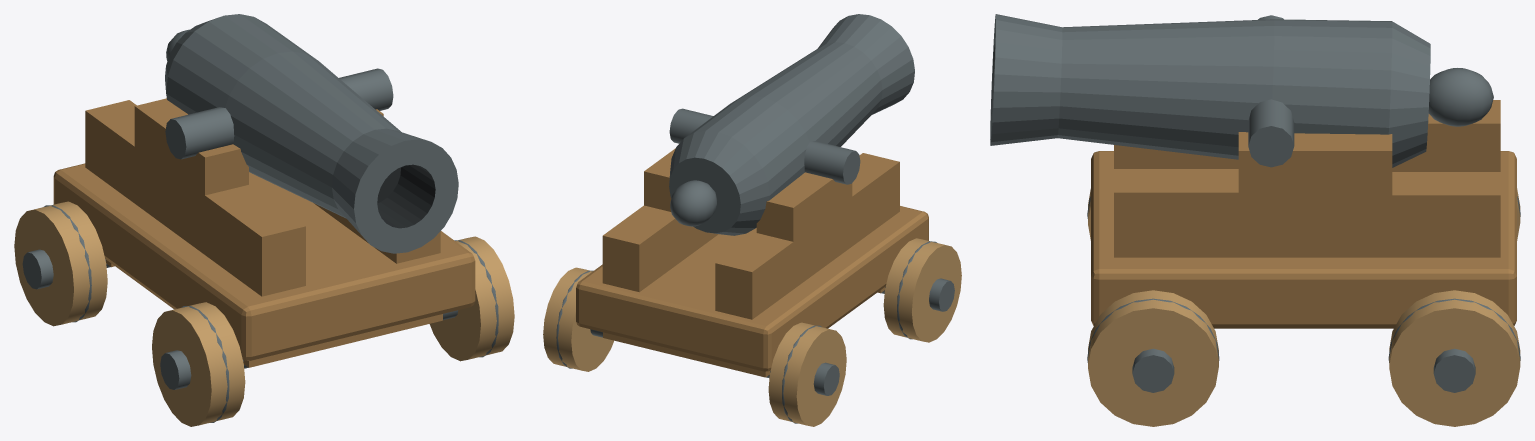
The model's file is cannon_naval.glb.
The picture shows the model from 3 angles, left to right: view 1: azimuth 30°, elevation 25°; view 2: azimuth 150°, elevation 25°; view 3: azimuth 270°, elevation 25°; orthographic projection. The views are drawn at different scales.
Visible parts, largest first — view 1: Naval cannon short hollow-looking barrel, Naval cannon low carriage bed, Naval cannon stepped carriage cheek, Naval cannon small solid wheel.002, Naval cannon small solid wheel, Naval cannon small solid wheel.001, Naval cannon barrel trunnions, Naval cannon axle mounting block, Naval cannon wheel hub, Naval cannon wheel hub.002, Naval cannon stepped carriage cheek.001; view 2: Naval cannon short hollow-looking barrel, Naval cannon low carriage bed, Naval cannon stepped carriage cheek, Naval cannon stepped carriage cheek.001, Naval cannon small solid wheel.002, Naval cannon small solid wheel, Naval cannon small solid wheel.003, Naval cannon barrel trunnions, Naval cannon rear rounded knob, Naval cannon axle mounting block.001, Naval cannon wheel hub, Naval cannon wheel hub.002; view 3: Naval cannon short hollow-looking barrel, Naval cannon stepped carriage cheek.001, Naval cannon low carriage bed, Naval cannon small solid wheel.003, Naval cannon small solid wheel.001, Naval cannon stepped carriage cheek, Naval cannon rear rounded knob, Naval cannon barrel trunnions, Naval cannon wheel hub.001, Naval cannon wheel hub.003.
Part boxes in pixels (box(x1,y1,x2,y2)): Naval cannon short hollow-looking barrel: box(165, 14, 458, 253); Naval cannon low carriage bed: box(53, 163, 475, 360); Naval cannon stepped carriage cheek: box(85, 98, 305, 296); Naval cannon small solid wheel.002: box(14, 201, 107, 326); Naval cannon small solid wheel: box(152, 302, 245, 426); Naval cannon small solid wheel.001: box(429, 236, 514, 361); Naval cannon barrel trunnions: box(165, 68, 393, 159); Naval cannon axle mounting block: box(243, 314, 442, 367); Naval cannon wheel hub: box(160, 350, 191, 389); Naval cannon wheel hub.002: box(22, 249, 53, 289); Naval cannon stepped carriage cheek.001: box(314, 109, 440, 263); Naval cannon short hollow-looking barrel: box(669, 14, 914, 235); Naval cannon low carriage bed: box(576, 206, 928, 371); Naval cannon stepped carriage cheek: box(715, 153, 899, 319); Naval cannon stepped carriage cheek.001: box(602, 148, 718, 292); Naval cannon small solid wheel.002: box(768, 322, 846, 426); Naval cannon small solid wheel: box(883, 238, 961, 342); Naval cannon small solid wheel.003: box(543, 267, 613, 371); Naval cannon barrel trunnions: box(669, 108, 860, 184); Naval cannon rear rounded knob: box(670, 180, 717, 226); Naval cannon axle mounting block.001: box(603, 332, 769, 377); Naval cannon wheel hub: box(929, 278, 954, 311); Naval cannon wheel hub.002: box(813, 362, 839, 395); Naval cannon short hollow-looking barrel: box(990, 14, 1430, 167); Naval cannon stepped carriage cheek.001: box(1114, 132, 1500, 257); Naval cannon low carriage bed: box(1091, 151, 1516, 328); Naval cannon small solid wheel.003: box(1389, 290, 1520, 426); Naval cannon small solid wheel.001: box(1088, 290, 1218, 426); Naval cannon stepped carriage cheek: box(1114, 100, 1500, 171); Naval cannon rear rounded knob: box(1428, 68, 1493, 126); Naval cannon barrel trunnions: box(1248, 15, 1294, 167); Naval cannon wheel hub.001: box(1132, 348, 1174, 392); Naval cannon wheel hub.003: box(1433, 348, 1475, 392).
Bounding box in the file's own units: 1.26 × 1.1 × 1.62.
